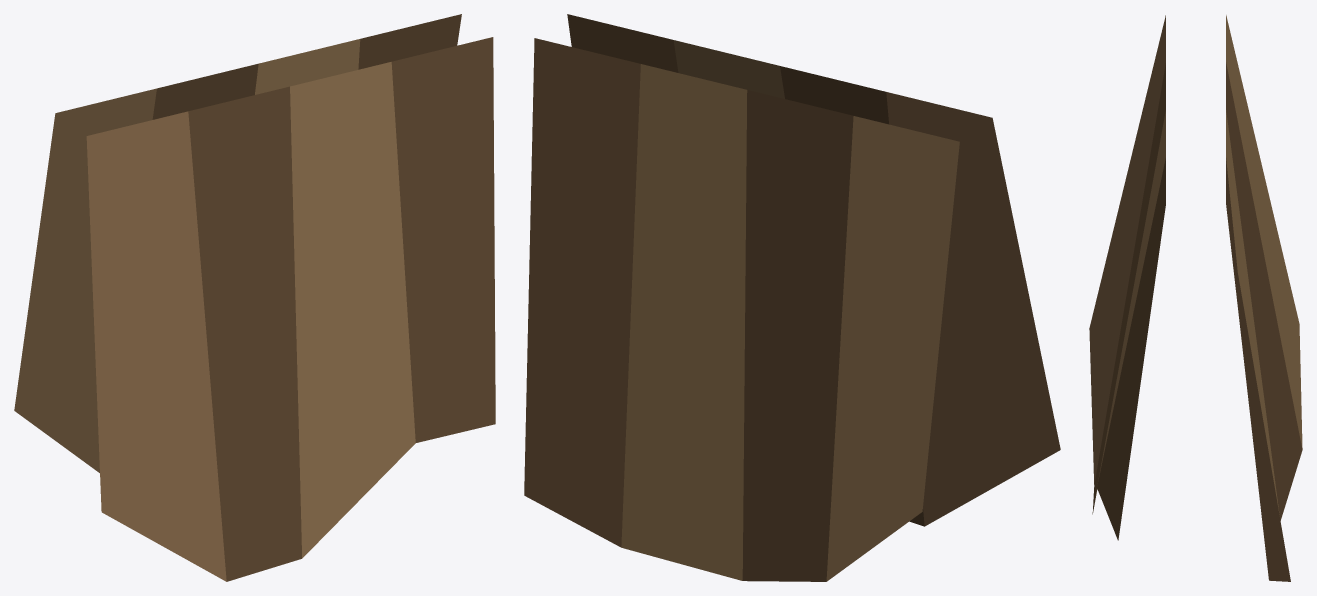
Rendered from drying_rack_pelle_2.glb.
3 renders of one model, left to right at view 1: azimuth 30°, elevation 25°; view 2: azimuth 150°, elevation 25°; view 3: azimuth 270°, elevation 25°, orthographic. The views are drawn at different scales.
Parts seen in each view (by area): view 1: drying_rack_pelle_2; view 2: drying_rack_pelle_2; view 3: drying_rack_pelle_2.
Boxes of the visible parts, box(x1,y1,x2,y2) form: drying_rack_pelle_2: box(14, 14, 495, 581); drying_rack_pelle_2: box(524, 14, 1060, 581); drying_rack_pelle_2: box(1089, 15, 1302, 581).
Size of the model in its own units: 0.7964 by 0.7846 by 0.3556.
